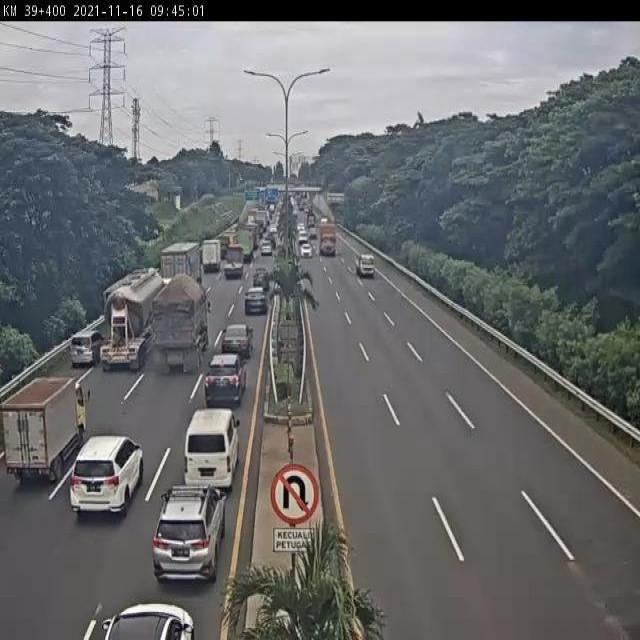car: (152, 488, 225, 581), (70, 435, 144, 516), (183, 412, 239, 492), (203, 354, 244, 406), (69, 331, 106, 368), (219, 327, 252, 361), (242, 291, 266, 317), (251, 268, 269, 293)
small truck: (1, 373, 90, 483), (199, 237, 221, 275)
truck-l-: (150, 271, 211, 376), (158, 242, 203, 306)
truck-m-: (220, 247, 244, 281)
truck-xl-: (100, 268, 171, 372)
